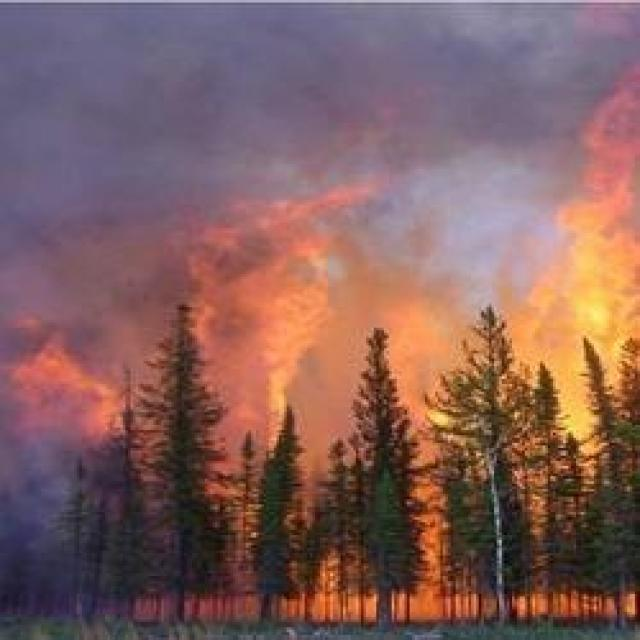Fire: (9, 74, 640, 624)
Smoke: (4, 2, 610, 253)
